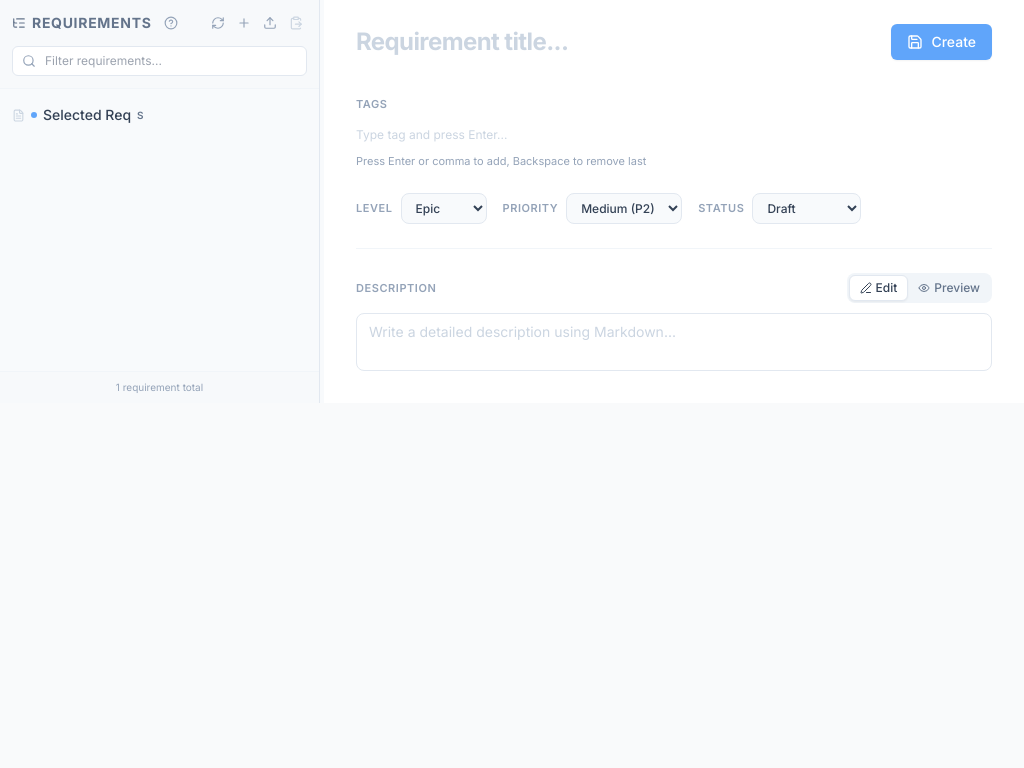
Test case: RequirementsPage › shows editor form when requirement selected
Click the text "Selected Req" at (87, 115), box [43,105,131,125]
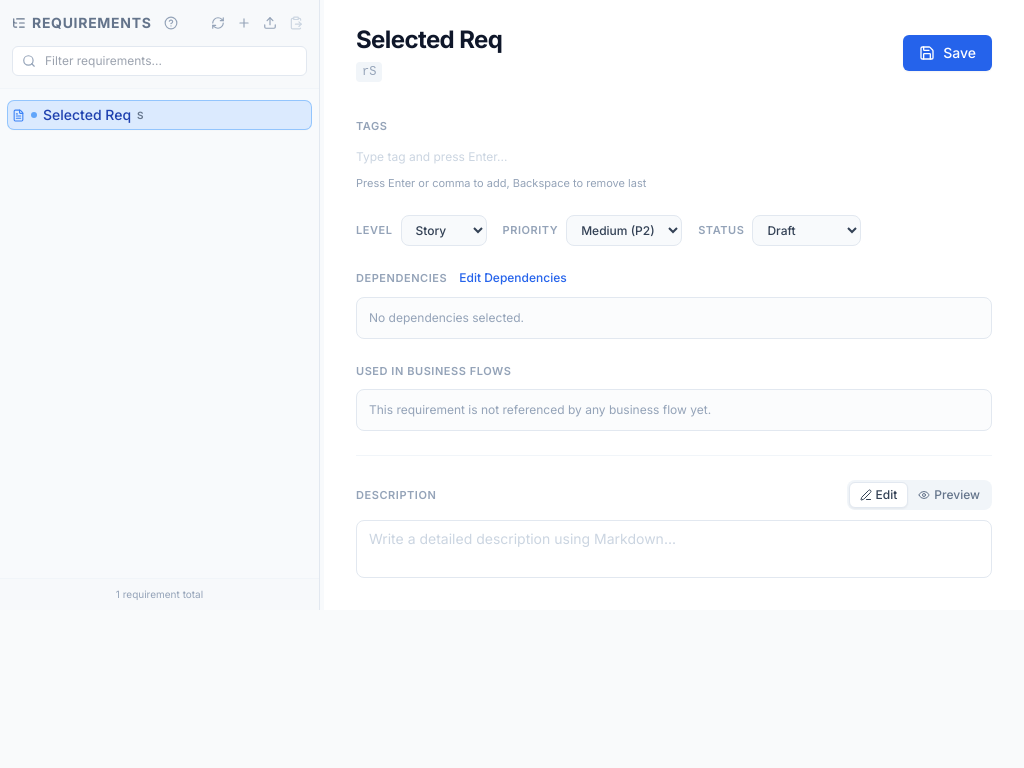
Now the text "Save" is shown, box [943,43,976,63]
